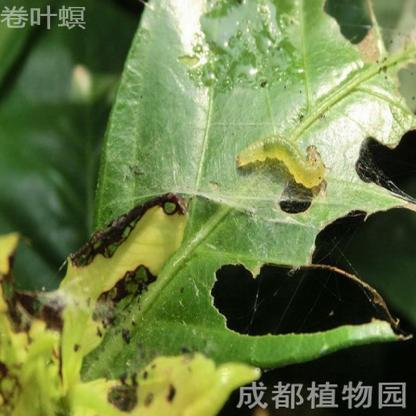leaf-folder: (228, 118, 331, 194)
